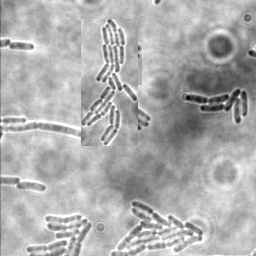Dividing: (1, 123, 80, 142), (8, 41, 35, 52)
Microcolony: (81, 19, 138, 146), (109, 200, 205, 255), (25, 212, 94, 255), (87, 40, 142, 85), (184, 89, 248, 126), (16, 182, 48, 193)
